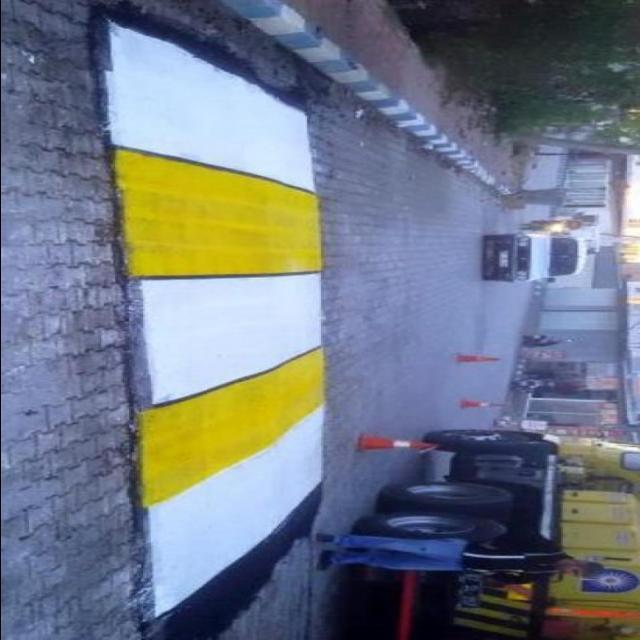speedbreaker: (80, 4, 339, 628)
